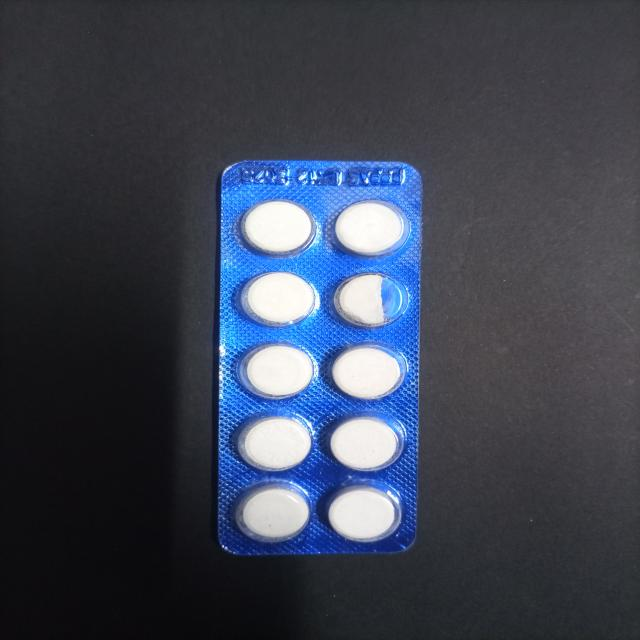defect: (330, 269, 410, 333)
